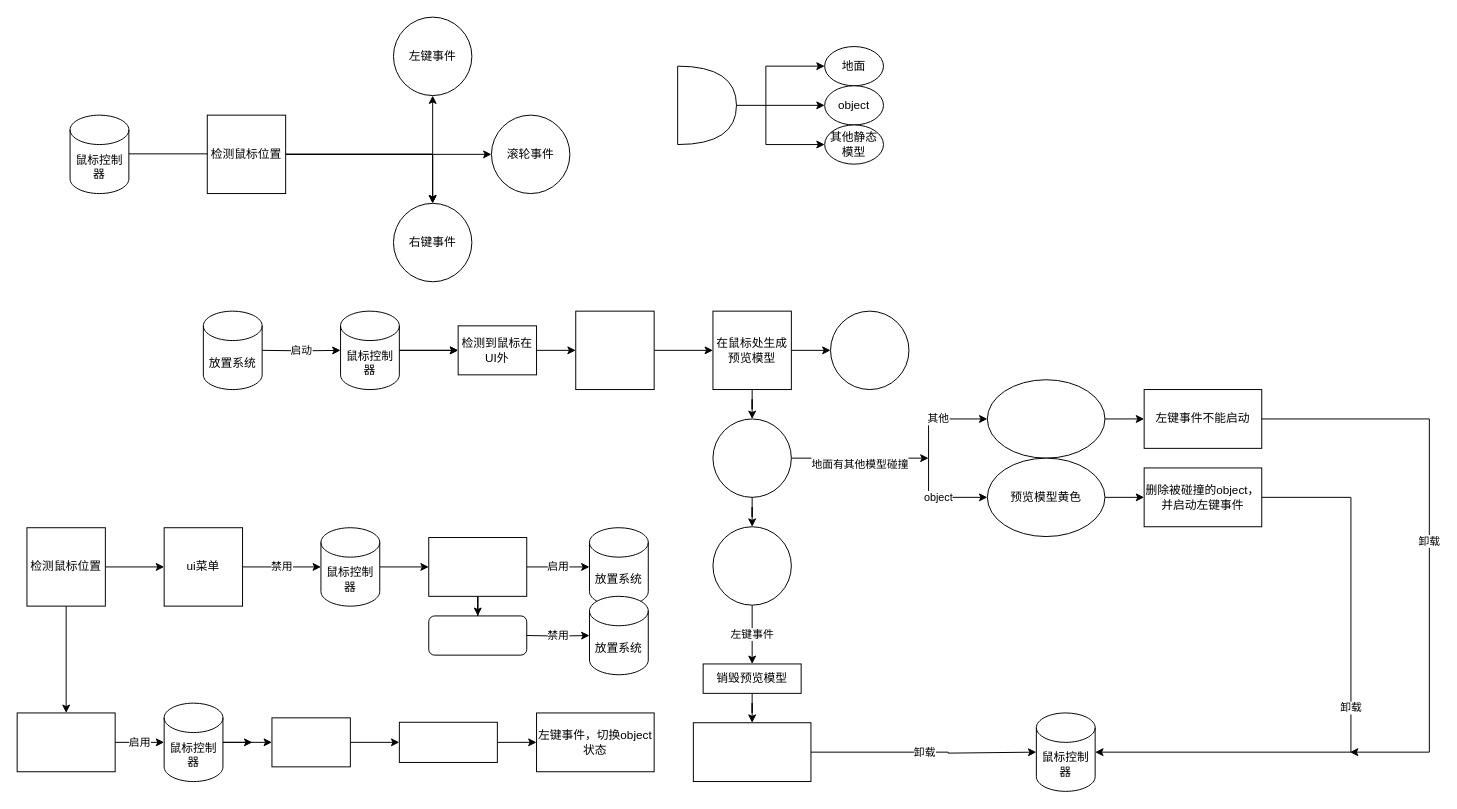
Some shapes in this 1457 by 809 pixel diagram are drawn without their labels. Here are the shapes that lost their labels. From the top down, the box of each, then its label:
(677, 65, 736, 145): 碰撞
(575, 310, 654, 390): 延迟2秒
(830, 310, 909, 390): 滚轮事件，可以旋转预览模型
(986, 379, 1105, 458): 预览模型红色
(712, 418, 791, 497): 检测碰撞
(428, 537, 527, 596): 鼠标移动到按钮处 左击启动左键事件
(712, 526, 791, 605): 地面无其他模型碰撞，预览模型绿色
(428, 615, 527, 655): 可以启用右键事件
(16, 712, 115, 772): UI菜单外
(271, 717, 350, 767): 检测鼠标处物体
(398, 721, 497, 762): 有object
(692, 722, 811, 782): 覆盖生成物体
